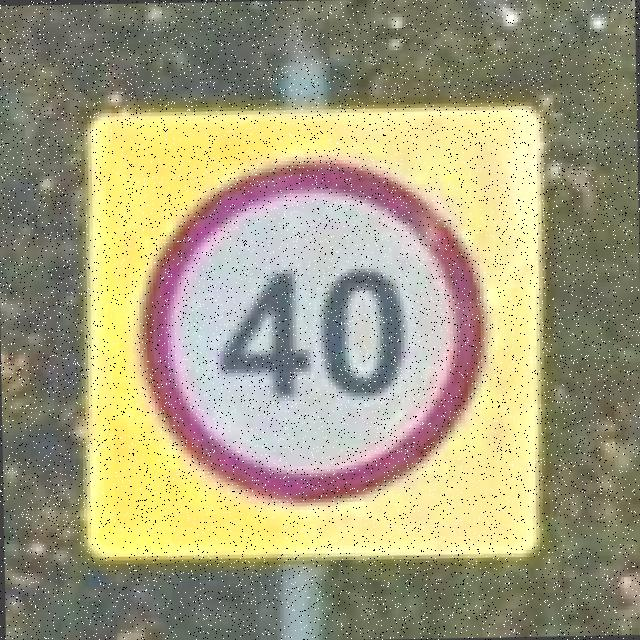Ograniczenie predkosci do 40: (132, 153, 494, 512)
